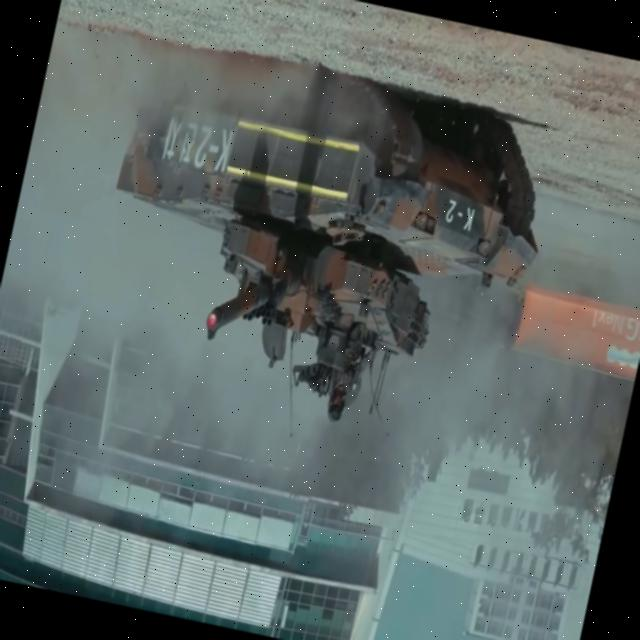korea tank: (75, 29, 570, 458)
